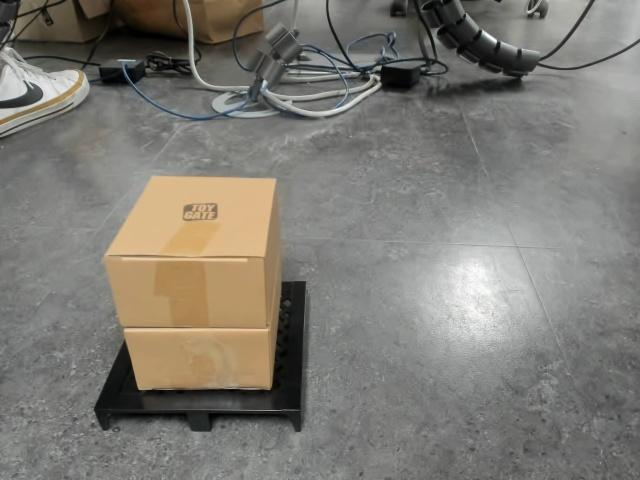box: (93, 174, 313, 432)
